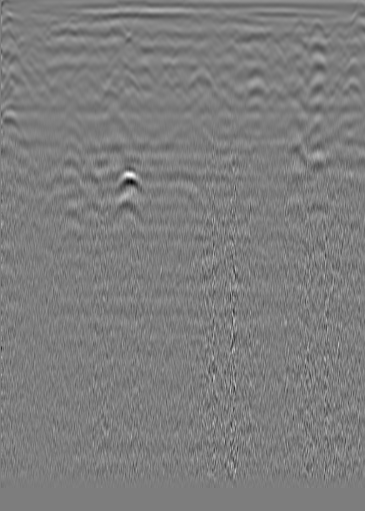가스: (114, 168, 144, 199)
상수: (0, 9, 20, 29)
오수: (307, 21, 327, 41)
우수: (152, 20, 172, 40)
